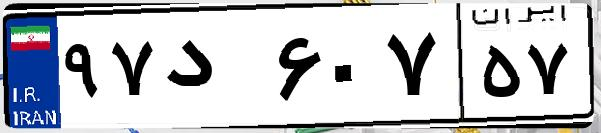0: (330, 28, 385, 110)
5: (475, 38, 525, 113)
6: (270, 28, 330, 110)
7: (385, 28, 445, 110), (525, 38, 570, 115), (110, 28, 158, 98)
9: (57, 26, 110, 100)
د: (158, 20, 270, 120)
